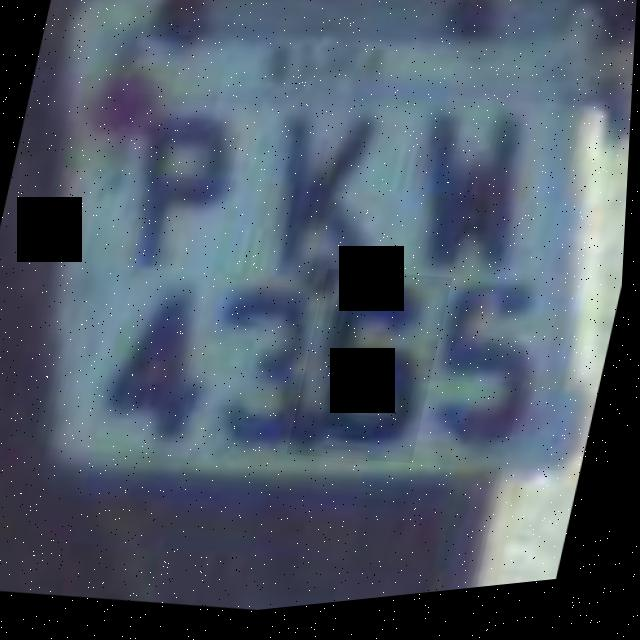3: (176, 258, 354, 481)
4: (76, 250, 240, 477)
5: (405, 264, 569, 472)
6: (290, 266, 457, 483)
K: (244, 98, 405, 301)
P: (103, 90, 251, 290)
